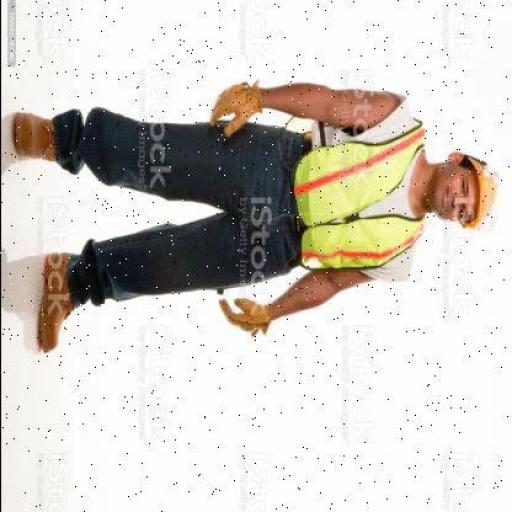person: (10, 66, 493, 357)
safety_shoe: (32, 251, 74, 350), (8, 105, 67, 165)
